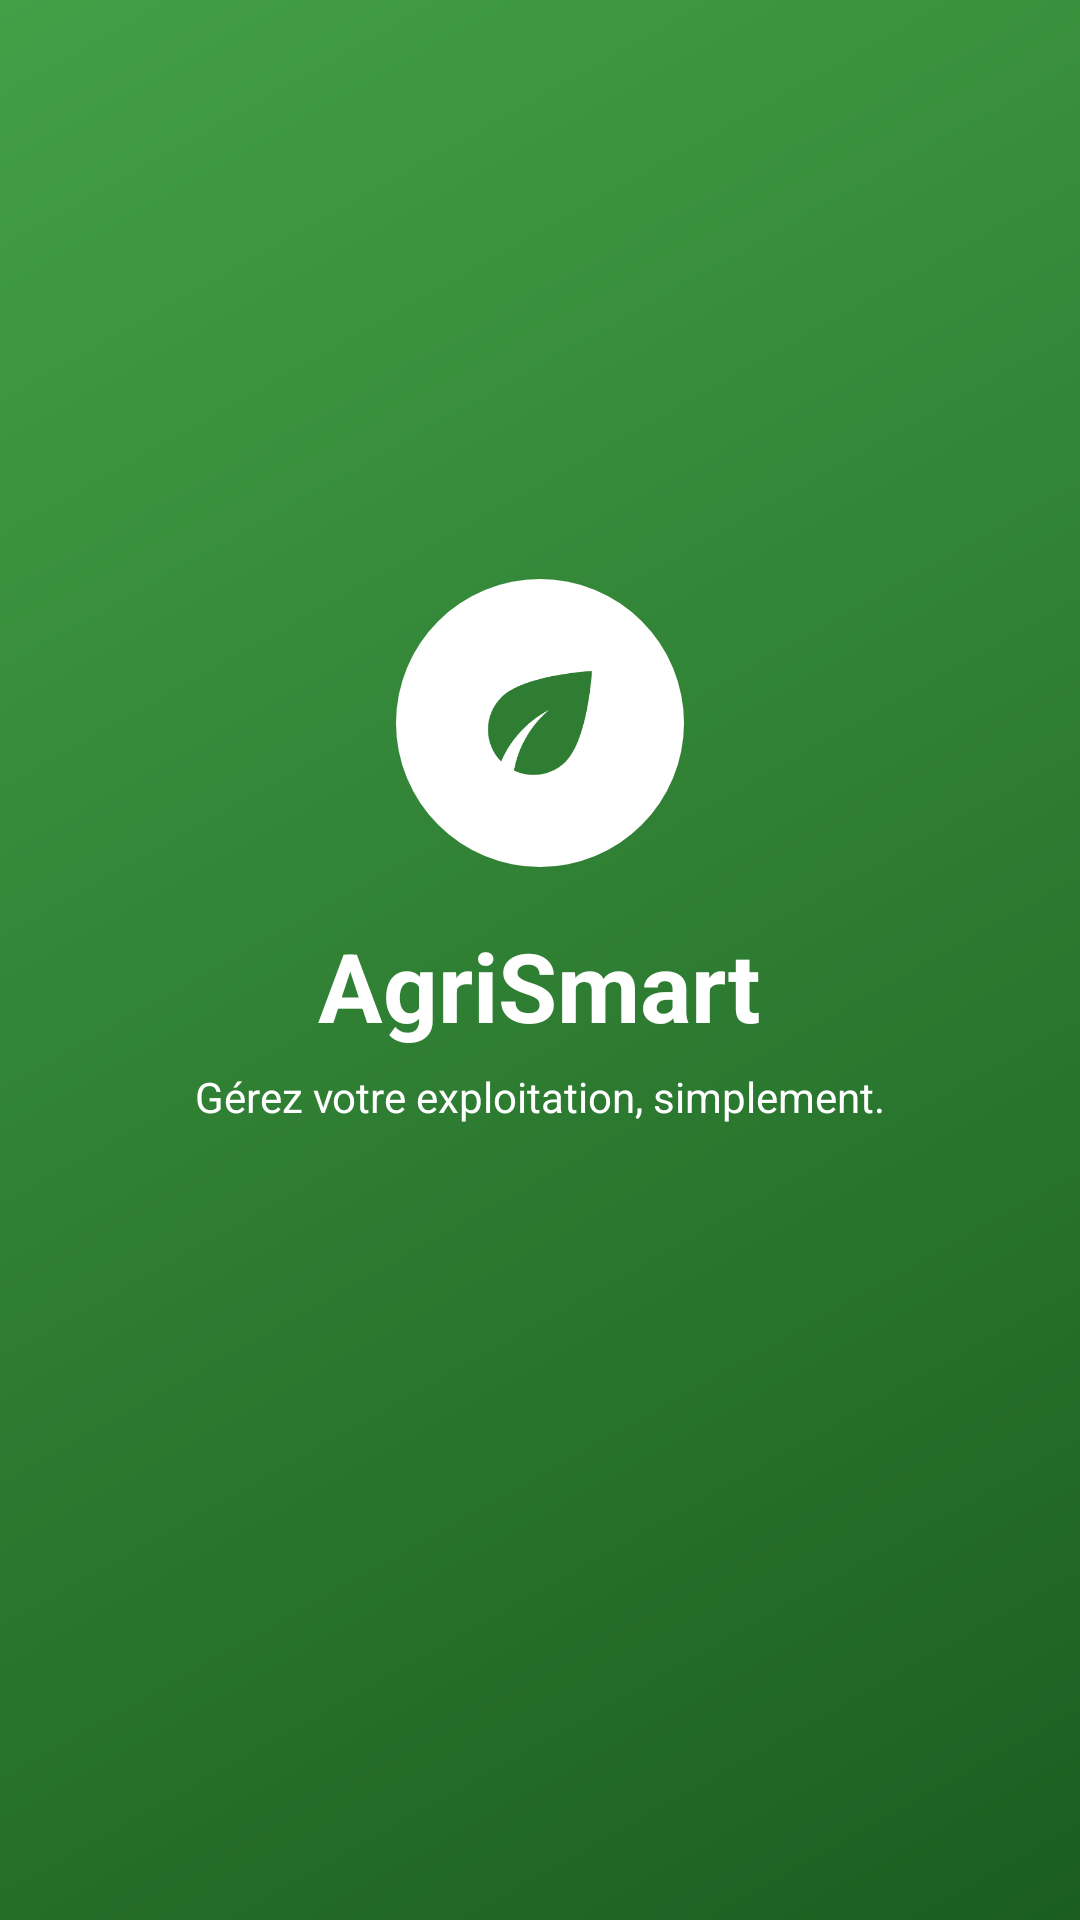

Point at icon controls on the screen. Image size 1080px×1920px, points as [x,y].
leaf: [540,723]
